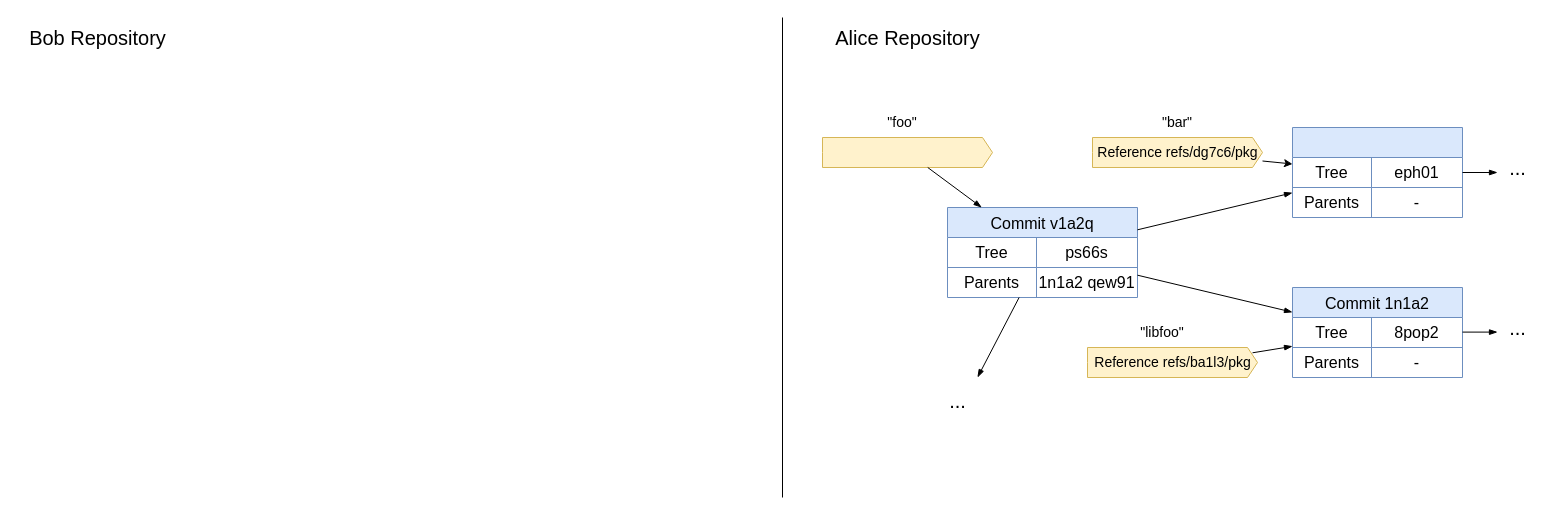
Some shapes in this 1554 by 516 pixel diagram are drawn without their labels. The box of each missing label's shape, as (x1, y1, x2, y2) in pixels:
Commit qew91: (1292, 126, 1462, 218)
Reference refs/sa8d2/pkg: (822, 136, 992, 168)
